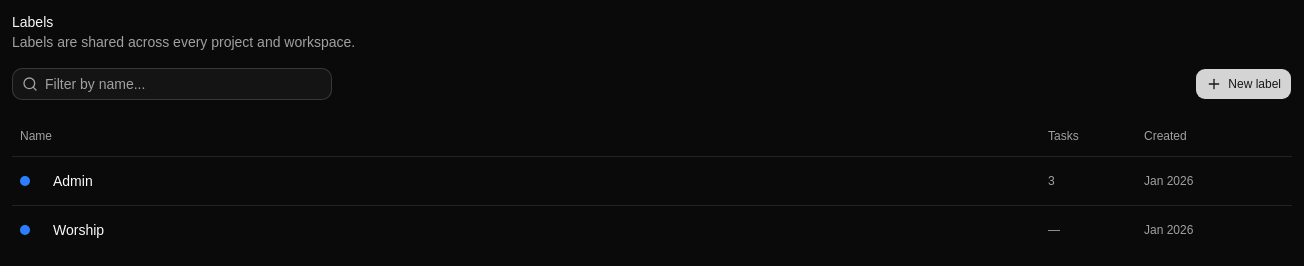
Test: label settings › abandons an inline rename on Escape
Step 1. Click the button "Worship" → click(154, 230), box [42,214,266,246]
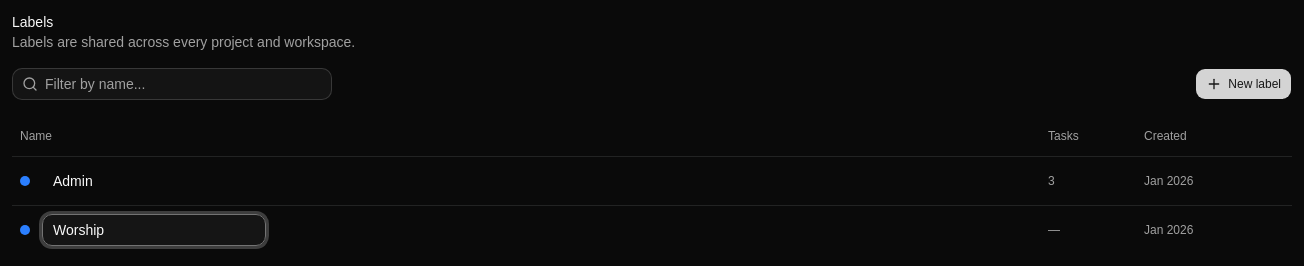
Step 2. Replace the text in the field named "Label name" with "Worship Team" → (154, 230), box [42,214,266,246]
Then press Escape
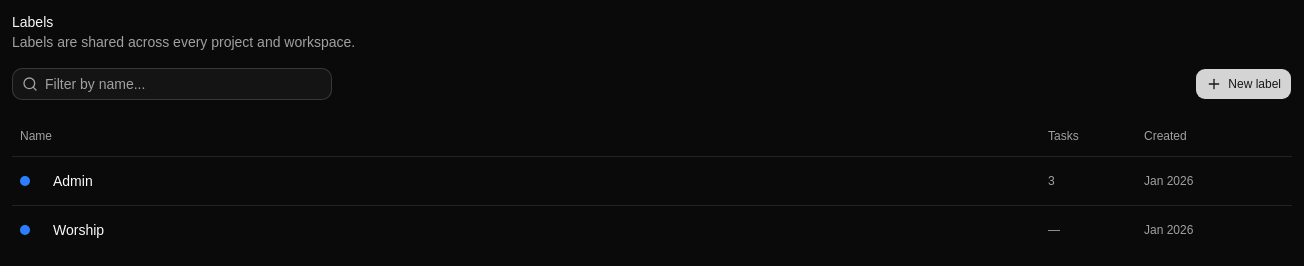
Expected: the button "Worship" is shown, [42,214,266,246]
